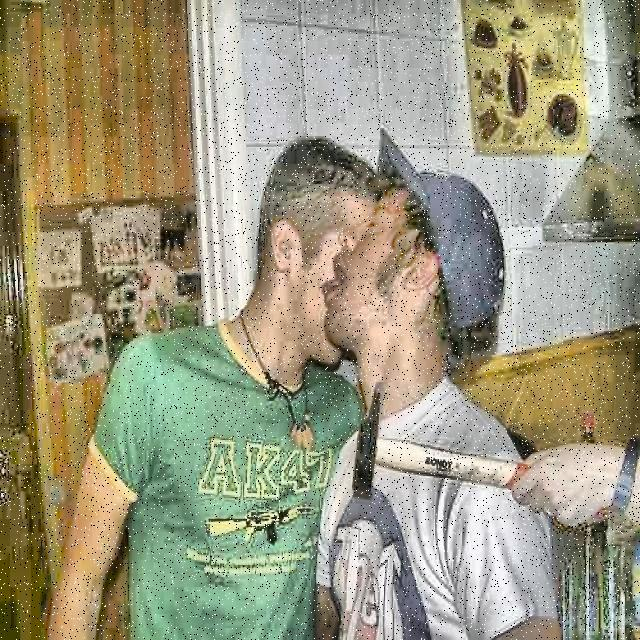hammer: (353, 381, 610, 505)
